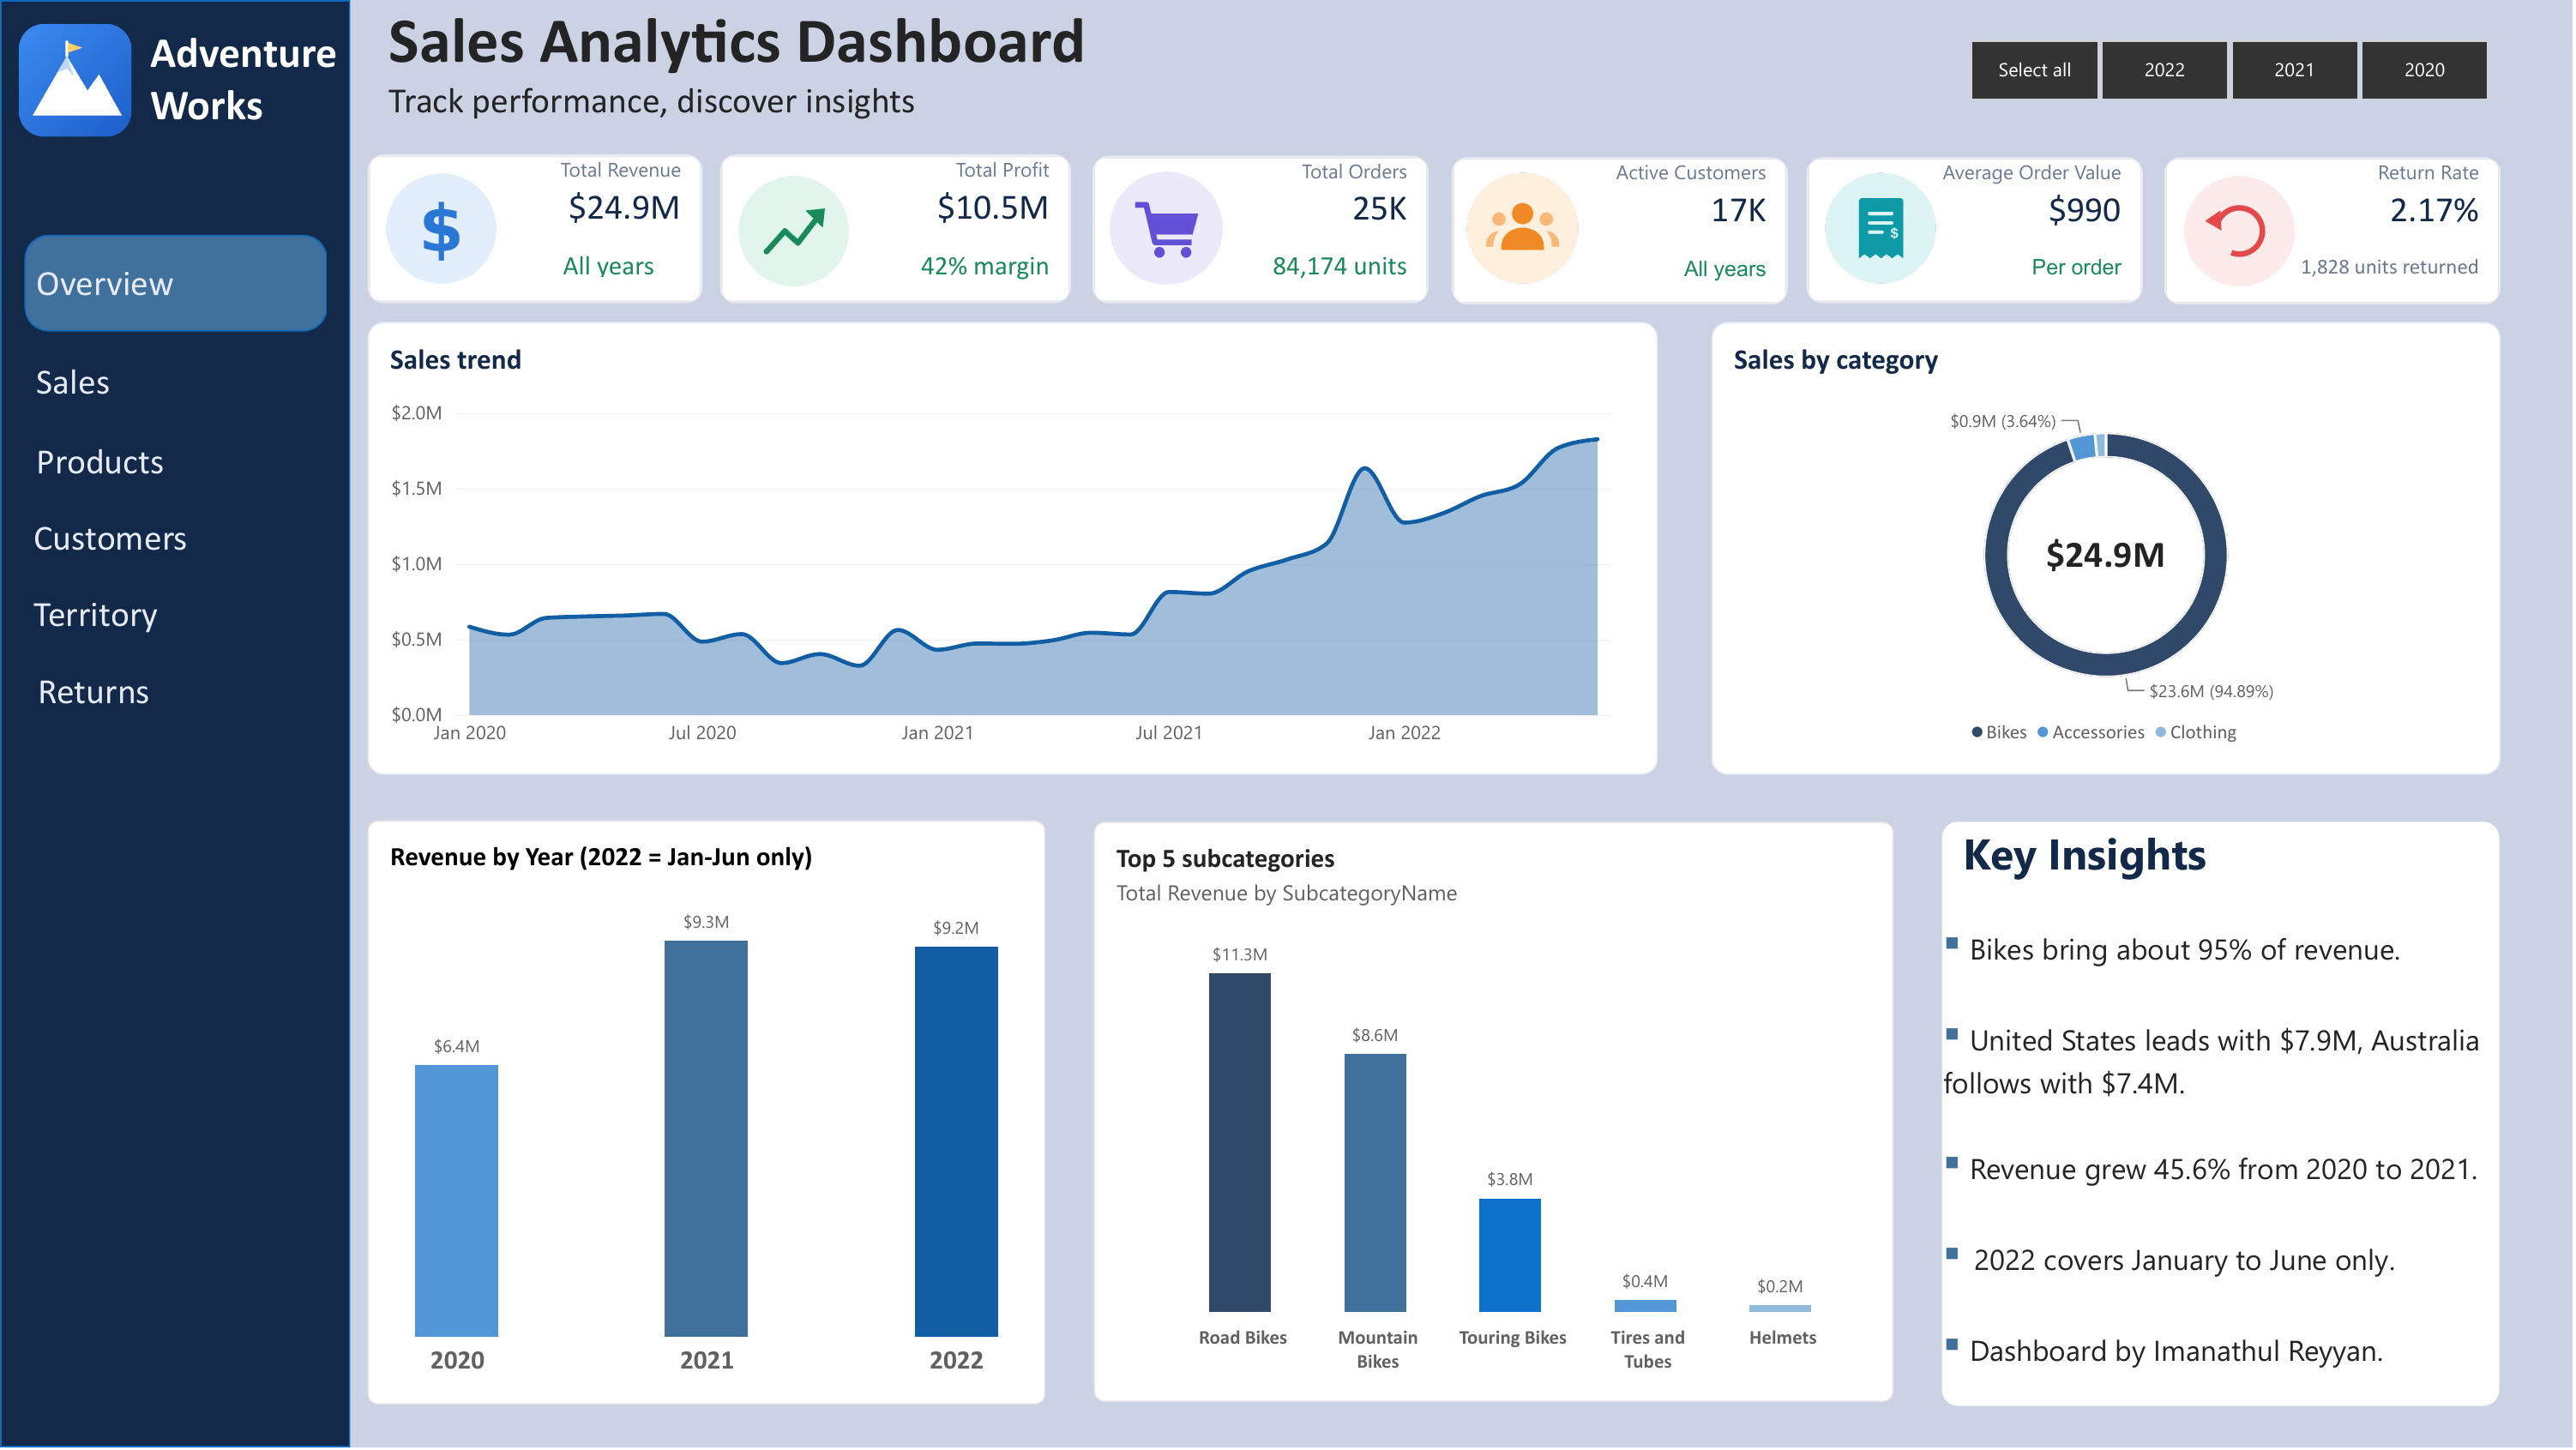

Layout of this report page (visuals, bound fields, positions):
{"tool":"powerbi","page":{"name":"Overview","canvas":[1920,1080],"ordinal":0},"visuals":[{"type":"shape","box":[0,0,261.1,1080],"z":0},{"type":"cardVisual","fields":{"Data":["fact_Sales.Total Revenue"]},"box":[273.5,114.7,250,111.1],"z":1000},{"type":"cardVisual","fields":{"Data":["fact_Sales.Total Profit"]},"box":[537.1,114.7,262.4,111.2],"z":2000},{"type":"cardVisual","fields":{"Data":["fact_Sales.Return Rate"]},"box":[1615.3,117.1,250.6,110],"z":3000},{"type":"cardVisual","fields":{"Data":["fact_Sales.Total Orders"]},"box":[815.3,116.5,251.2,110],"z":4000},{"type":"slicer","fields":{"Values":["dim_Calendar.Year"]},"box":[1450,28,426,48],"z":5000},{"type":"textbox","box":[290,0,947.1,102.9],"z":6000},{"type":"image","box":[281.8,128.8,93.5,81.8],"z":7000},{"type":"image","box":[547.6,130.6,87.8,82.2],"z":8000},{"type":"image","box":[799.4,127.6,142,84],"z":9000},{"type":"image","box":[1628.8,130.6,84.4,82.2],"z":10000},{"type":"areaChart","title":"Sales trend","fields":{"Category":["dim_Calendar.Month Start"],"Y":["fact_Sales.Total Revenue"]},"box":[273.8,239.5,963.6,338.6],"z":11000},{"type":"donutChart","title":"Sales by category","fields":{"Category":["dim_Category.CategoryName"],"Y":["fact_Sales.Total Revenue"]},"box":[1277,239.5,589,338.6],"z":12000},{"type":"textbox","box":[1448.8,612.5,416.2,436.2],"z":13000},{"type":"columnChart","title":"Revenue by Year (2022 = Jan-Jun only)","fields":{"Category":["dim_Calendar.Year"],"Y":["fact_Sales.Total Revenue"]},"box":[273.8,612.4,506.1,435.9],"z":14000},{"type":"clusteredColumnChart","title":"Top 5 subcategories","fields":{"Category":["dim_Subcategory.SubcategoryName"],"Y":["fact_Sales.Total Revenue"]},"box":[816.2,612.5,596.2,433.8],"z":15000},{"type":"textbox","box":[112,20,253,150],"z":16000},{"type":"cardVisual","fields":{"Data":["fact_Sales.Active Customers"]},"box":[1082.9,117.1,251.2,110],"z":17000},{"type":"image","box":[1092.9,127.6,86.5,84.1],"z":18000},{"type":"cardVisual","fields":{"Data":["fact_Sales.Average Order Value"]},"box":[1348.2,117.1,251.2,108.8],"z":19000},{"type":"image","box":[1355.3,128.2,94.7,83.5],"z":20000},{"type":"image","box":[12,16,86.7,86.7],"z":21000},{"type":"shape","box":[17.7,174.6,226.5,72.9],"z":22000},{"type":"textbox","box":[26.9,194.9,301,63.4],"z":23000},{"type":"textbox","box":[26.9,269.3,301,36.4],"z":24000},{"type":"textbox","box":[25.3,442,196.4,33.3],"z":26000},{"type":"textbox","box":[25.3,385,213.9,34.9],"z":27000},{"type":"textbox","box":[26.9,327.9,299.4,42.8],"z":28000},{"type":"actionButton","box":[25,328.3,107.5,42.5],"z":29000},{"type":"actionButton","box":[23.3,265.8,69.2,40],"z":30000},{"type":"actionButton","box":[25,438.3,99.2,40],"z":31000},{"type":"actionButton","box":[25,389.2,118.3,40],"z":32000},{"type":"actionButton","box":[26.7,490,100,50],"z":33000},{"type":"textbox","box":[28.3,500,102.5,32.5],"z":33001},{"type":"actionButton","box":[22.7,174.4,165.7,73.3],"z":33002}]}

Visuals, with their boxes in screenshot pixels (x1, y1, x2, y2), scaled from the page's 1920x1080 canvas onto the 2576x1450 screenshot:
shape: {"x1": 0, "y1": 0, "x2": 351, "y2": 1449}
cardVisual - fact_Sales.Total Revenue: {"x1": 367, "y1": 154, "x2": 702, "y2": 304}
cardVisual - fact_Sales.Total Profit: {"x1": 720, "y1": 154, "x2": 1073, "y2": 304}
cardVisual - fact_Sales.Return Rate: {"x1": 2167, "y1": 157, "x2": 2503, "y2": 305}
cardVisual - fact_Sales.Total Orders: {"x1": 1094, "y1": 156, "x2": 1431, "y2": 304}
slicer - dim_Calendar.Year: {"x1": 1946, "y1": 38, "x2": 2517, "y2": 102}
textbox: {"x1": 389, "y1": 0, "x2": 1660, "y2": 138}
image: {"x1": 378, "y1": 173, "x2": 503, "y2": 283}
image: {"x1": 735, "y1": 175, "x2": 852, "y2": 286}
image: {"x1": 1073, "y1": 171, "x2": 1263, "y2": 284}
image: {"x1": 2185, "y1": 175, "x2": 2298, "y2": 286}
"Sales trend" areaChart: {"x1": 367, "y1": 322, "x2": 1660, "y2": 776}
"Sales by category" donutChart: {"x1": 1713, "y1": 322, "x2": 2504, "y2": 776}
textbox: {"x1": 1944, "y1": 822, "x2": 2502, "y2": 1408}
"Revenue by Year (2022 = Jan-Jun only)" columnChart: {"x1": 367, "y1": 822, "x2": 1046, "y2": 1407}
"Top 5 subcategories" clusteredColumnChart: {"x1": 1095, "y1": 822, "x2": 1895, "y2": 1405}
textbox: {"x1": 150, "y1": 27, "x2": 490, "y2": 228}
cardVisual - fact_Sales.Active Customers: {"x1": 1453, "y1": 157, "x2": 1790, "y2": 305}
image: {"x1": 1466, "y1": 171, "x2": 1582, "y2": 284}
cardVisual - fact_Sales.Average Order Value: {"x1": 1809, "y1": 157, "x2": 2146, "y2": 304}
image: {"x1": 1818, "y1": 172, "x2": 1946, "y2": 284}
image: {"x1": 16, "y1": 21, "x2": 132, "y2": 138}
shape: {"x1": 24, "y1": 234, "x2": 328, "y2": 333}
textbox: {"x1": 36, "y1": 262, "x2": 440, "y2": 346}
textbox: {"x1": 36, "y1": 362, "x2": 440, "y2": 411}
textbox: {"x1": 34, "y1": 593, "x2": 298, "y2": 638}
textbox: {"x1": 34, "y1": 517, "x2": 321, "y2": 563}
textbox: {"x1": 36, "y1": 440, "x2": 438, "y2": 497}
actionButton: {"x1": 33, "y1": 441, "x2": 178, "y2": 498}
actionButton: {"x1": 31, "y1": 357, "x2": 124, "y2": 411}
actionButton: {"x1": 33, "y1": 588, "x2": 166, "y2": 642}
actionButton: {"x1": 33, "y1": 522, "x2": 192, "y2": 576}
actionButton: {"x1": 36, "y1": 658, "x2": 170, "y2": 725}
textbox: {"x1": 38, "y1": 671, "x2": 176, "y2": 715}
actionButton: {"x1": 31, "y1": 234, "x2": 253, "y2": 333}
